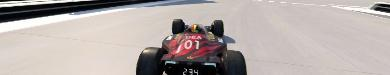Car: (135, 19, 247, 74)
curve: (0, 0, 389, 74)
